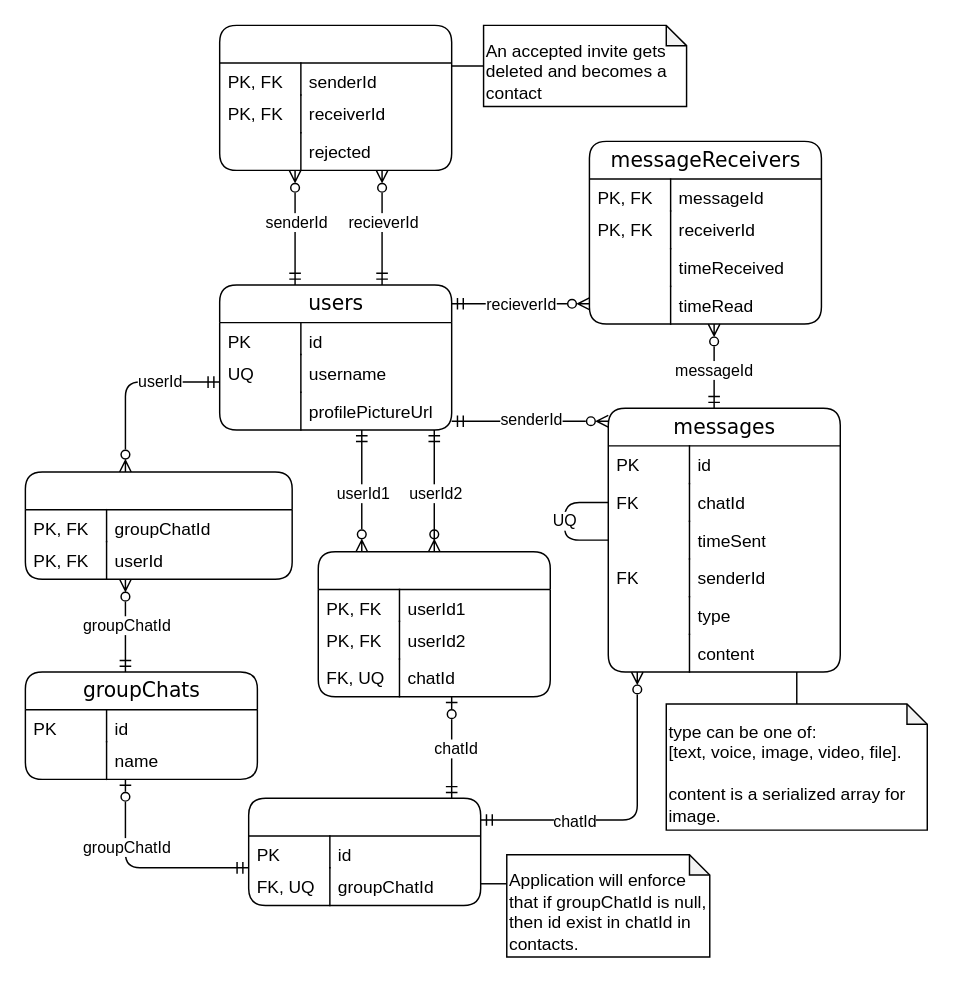
Image size: 953x983. Some labels were removed from this diagram. Each missing label, with the box of its shape:
chats: (247, 797, 481, 906)
contacts: (317, 550, 550, 697)
groupChatMemberships: (24, 471, 292, 579)
invites: (218, 24, 452, 170)
